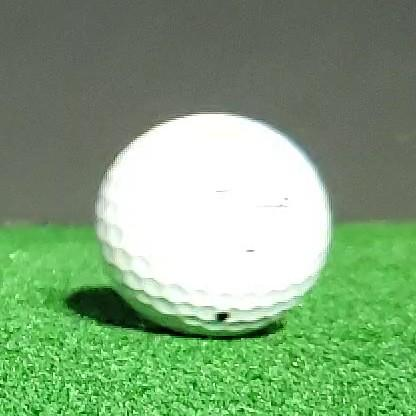golfball: (95, 114, 332, 336)
